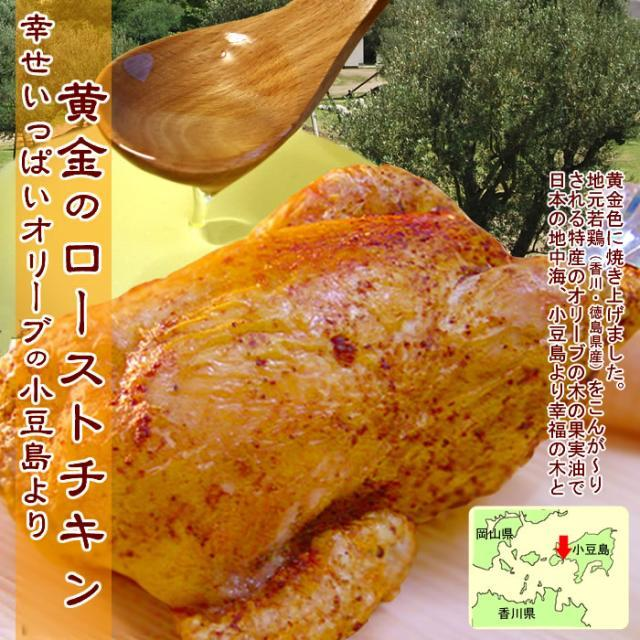Chicken: (116, 186, 472, 628)
